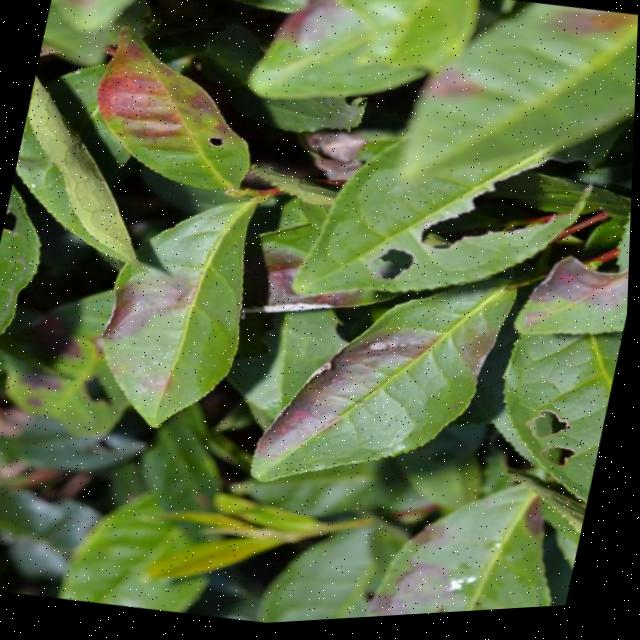Tea exobasidium blight: (256, 293, 464, 497), (80, 64, 191, 148), (103, 263, 197, 353)
